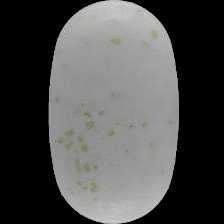51862-558: (0, 0, 224, 224)
